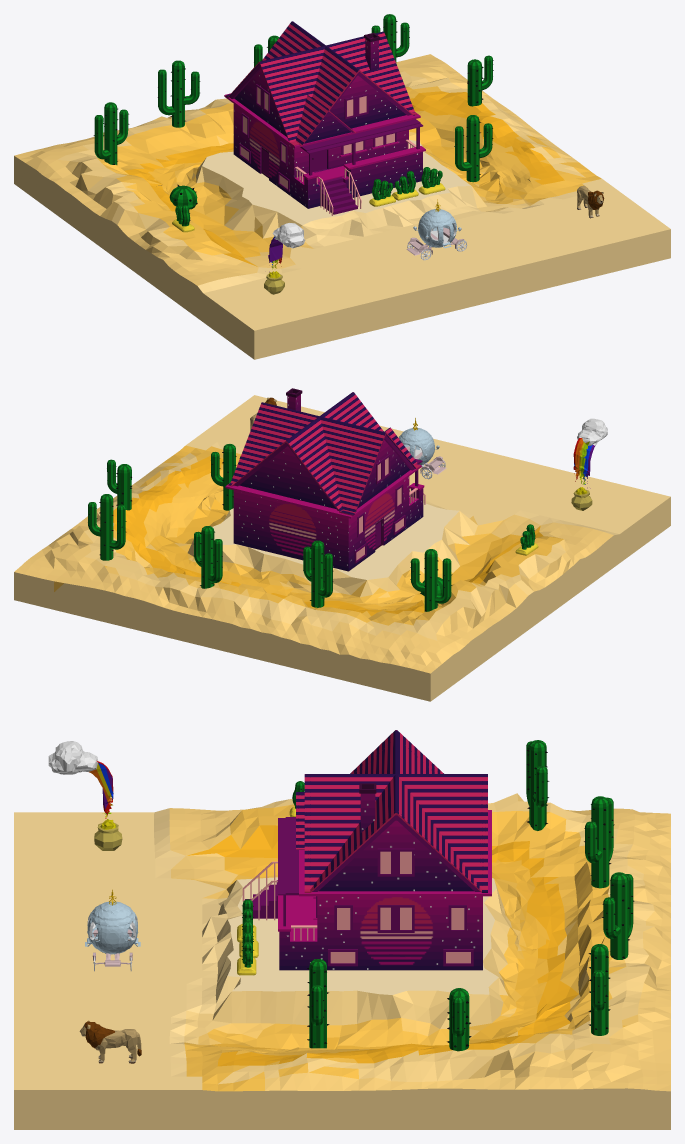
3 renders of one model, top to bottom at view 1: azimuth 30°, elevation 25°; view 2: azimuth 150°, elevation 25°; view 3: azimuth 270°, elevation 25°, orthographic. The views are drawn at different scales.
Parts seen in each view (by area): view 1: Cube.001, Cube.156, VEHICLES_FANTASY_CARRIAGE, Cylinder.037, Cylinder.044, Cylinder.045, OBJRANDOM_RAINBOW, Cylinder.038, Cylinder.042, ANIMAL_LEON, Cylinder.039, Cylinder.041 (+2 smaller); view 2: Cube.001, Cube.156, Cylinder.042, Cylinder.045, OBJRANDOM_RAINBOW, Cylinder.044, Cylinder.043, VEHICLES_FANTASY_CARRIAGE, Cylinder.037, Cylinder.038; view 3: Cube.001, Cube.156, VEHICLES_FANTASY_CARRIAGE, OBJRANDOM_RAINBOW, Cylinder.043, Cylinder.044, Cylinder.045, Cylinder.042, Cylinder.037, ANIMAL_LEON, Cylinder.038, Cylinder.041.
Part boxes in pixels (bbox=[...]): Cube.001: bbox=[14, 54, 670, 359]; Cube.156: bbox=[224, 21, 425, 215]; VEHICLES_FANTASY_CARRIAGE: bbox=[406, 199, 467, 260]; Cylinder.037: bbox=[454, 115, 493, 182]; Cylinder.044: bbox=[157, 60, 200, 127]; Cylinder.045: bbox=[93, 102, 129, 164]; OBJRANDOM_RAINBOW: bbox=[264, 223, 305, 294]; Cylinder.038: bbox=[467, 55, 493, 106]; Cylinder.042: bbox=[371, 14, 409, 62]; ANIMAL_LEON: bbox=[577, 185, 604, 218]; Cylinder.039: bbox=[369, 179, 395, 206]; Cylinder.041: bbox=[418, 167, 445, 194]; Cube.001: bbox=[14, 395, 670, 701]; Cube.156: bbox=[225, 388, 425, 571]; Cylinder.042: bbox=[88, 494, 126, 560]; Cylinder.045: bbox=[410, 549, 452, 611]; OBJRANDOM_RAINBOW: bbox=[571, 418, 607, 510]; Cylinder.044: bbox=[303, 540, 333, 607]; Cylinder.043: bbox=[193, 526, 222, 588]; VEHICLES_FANTASY_CARRIAGE: bbox=[398, 418, 446, 479]; Cylinder.037: bbox=[211, 444, 240, 510]; Cylinder.038: bbox=[107, 459, 131, 510]; Cube.001: bbox=[14, 793, 670, 1129]; Cube.156: bbox=[242, 730, 491, 970]; VEHICLES_FANTASY_CARRIAGE: bbox=[85, 889, 140, 971]; OBJRANDOM_RAINBOW: bbox=[48, 741, 122, 850]; Cylinder.043: bbox=[602, 872, 634, 959]; Cylinder.044: bbox=[584, 796, 614, 888]; Cylinder.045: bbox=[526, 740, 549, 830]; Cylinder.042: bbox=[588, 944, 610, 1035]; Cylinder.037: bbox=[307, 959, 329, 1048]; ANIMAL_LEON: bbox=[79, 1020, 141, 1063]; Cylinder.038: bbox=[447, 988, 471, 1051]; Cylinder.041: bbox=[237, 932, 256, 975].
Bounding box in the file's own units: 4002 × 1643 × 4001.
33 materials, 4 textured.
